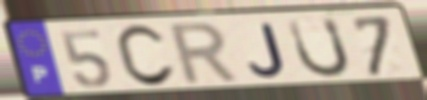5: (57, 28, 114, 90)
7: (351, 14, 395, 78)
C: (112, 23, 179, 91)
J: (246, 22, 289, 80)
R: (167, 20, 244, 88)
U: (285, 15, 353, 80)
